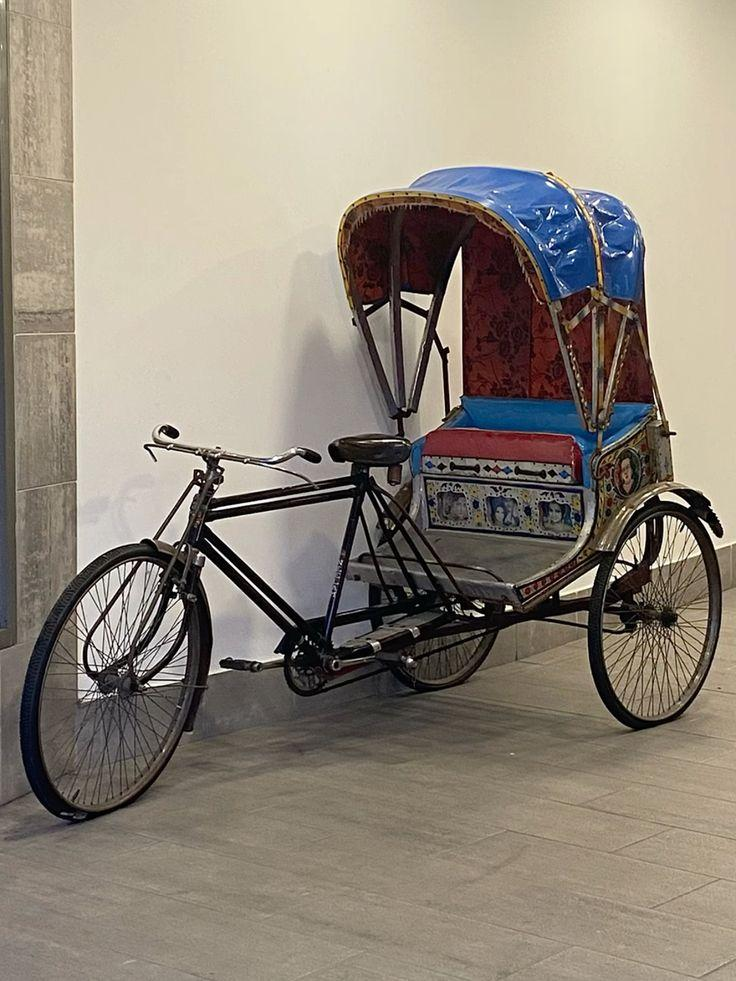Rickshaw: (21, 167, 721, 818)
